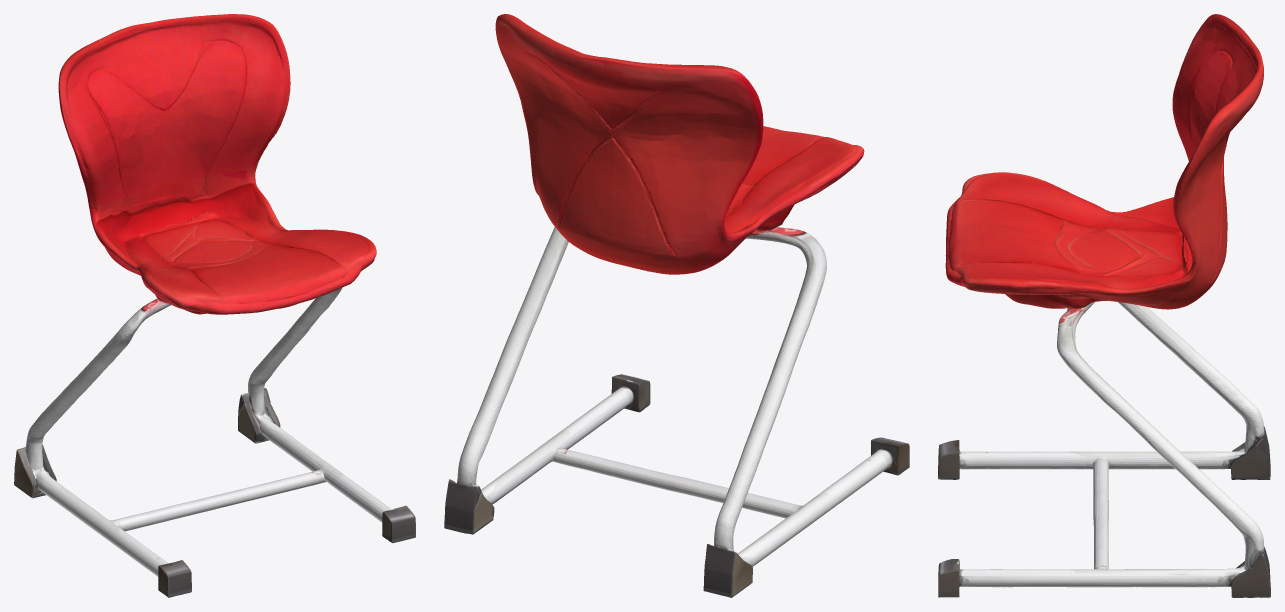
Rendered from roterStuhl.glb.
3 renders of one model, left to right at view 1: azimuth 30°, elevation 25°; view 2: azimuth 150°, elevation 25°; view 3: azimuth 270°, elevation 25°, orthographic. The views are drawn at different scales.
Visible parts, largest first — view 1: temp; view 2: temp; view 3: temp.
Part boxes in pixels (left/top/right/bottom): temp: left=14, top=14, right=415, bottom=597; temp: left=444, top=14, right=909, bottom=597; temp: left=938, top=14, right=1270, bottom=597.
Size of the model in its own units: 1.2 by 2 by 1.28.
1 material, 1 textured.
